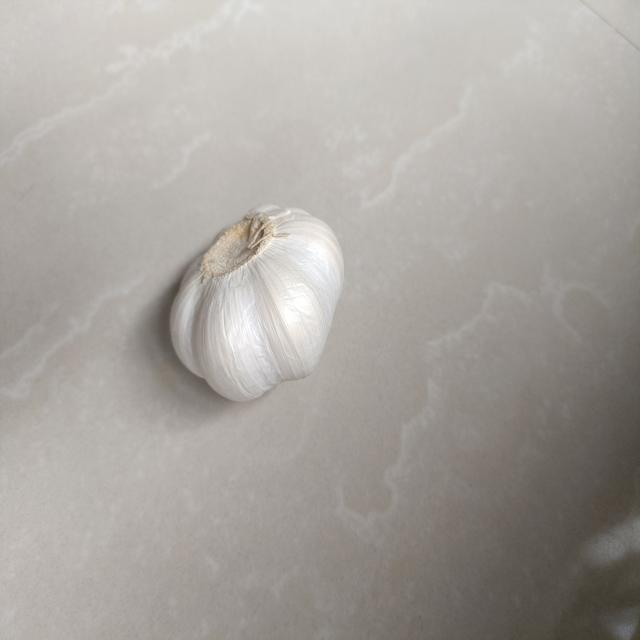garlic: (168, 202, 350, 406)
